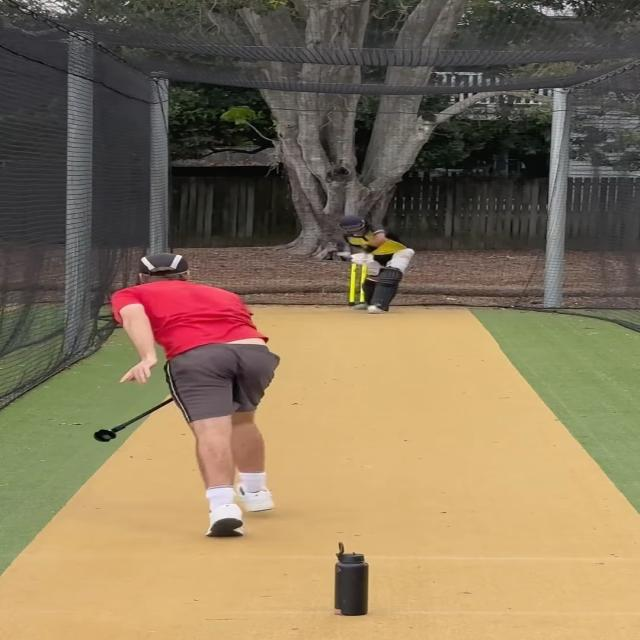Cricket ball: (365, 304, 379, 312)
